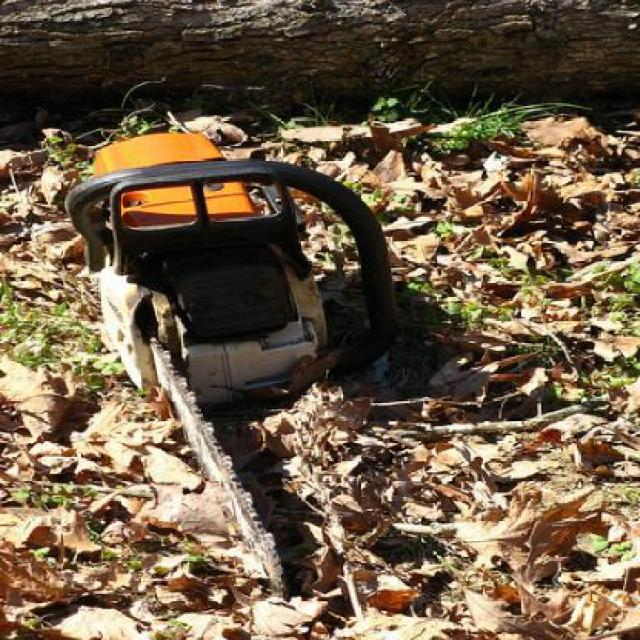Chainsaw: (64, 130, 393, 592)
